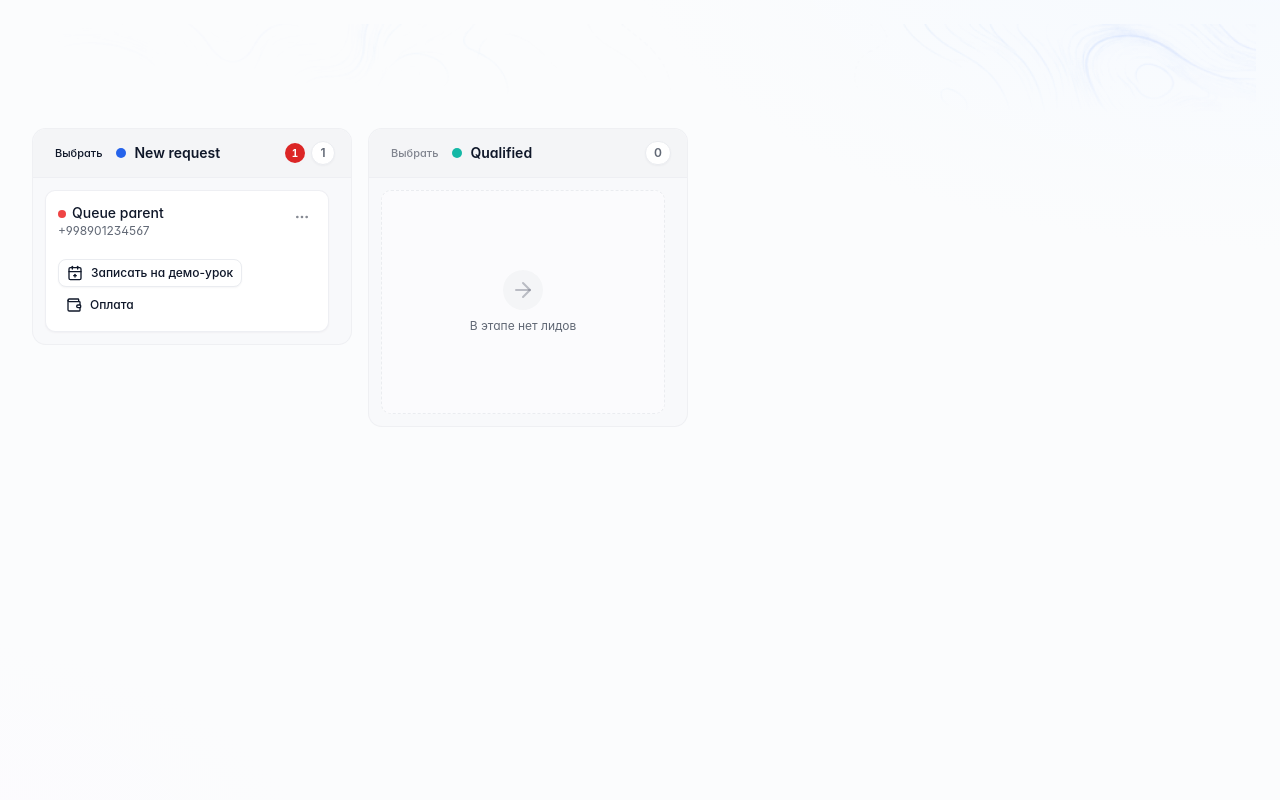
claiming queue leads before pipeline processing › cancels a drop without assignment or a stage change
This screenshot has width=1280, height=800.
Press the mouse on the button "Queue parent +998901234567 Записать на демо-урок Оплата" at (187, 261), box [45,190,329,332]
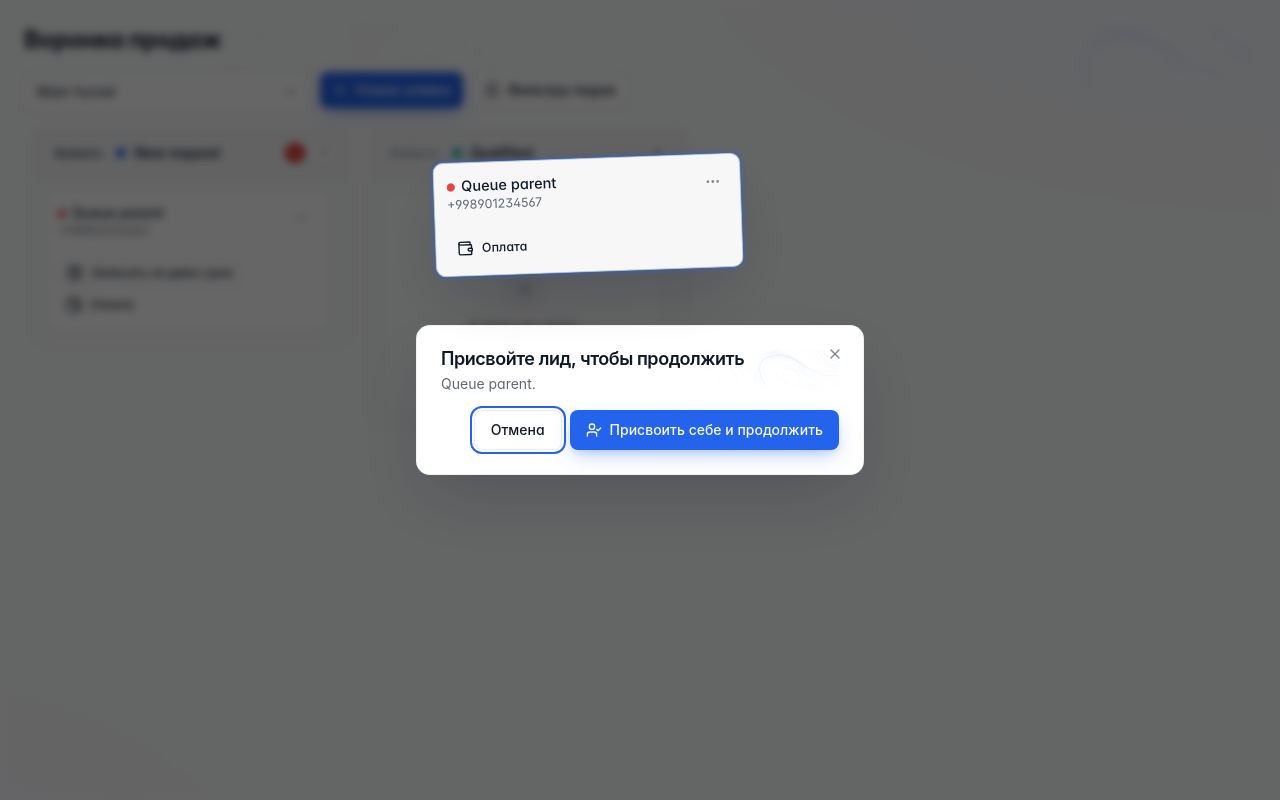
Click the button "Отмена" at (518, 430), box [474,410,562,450]
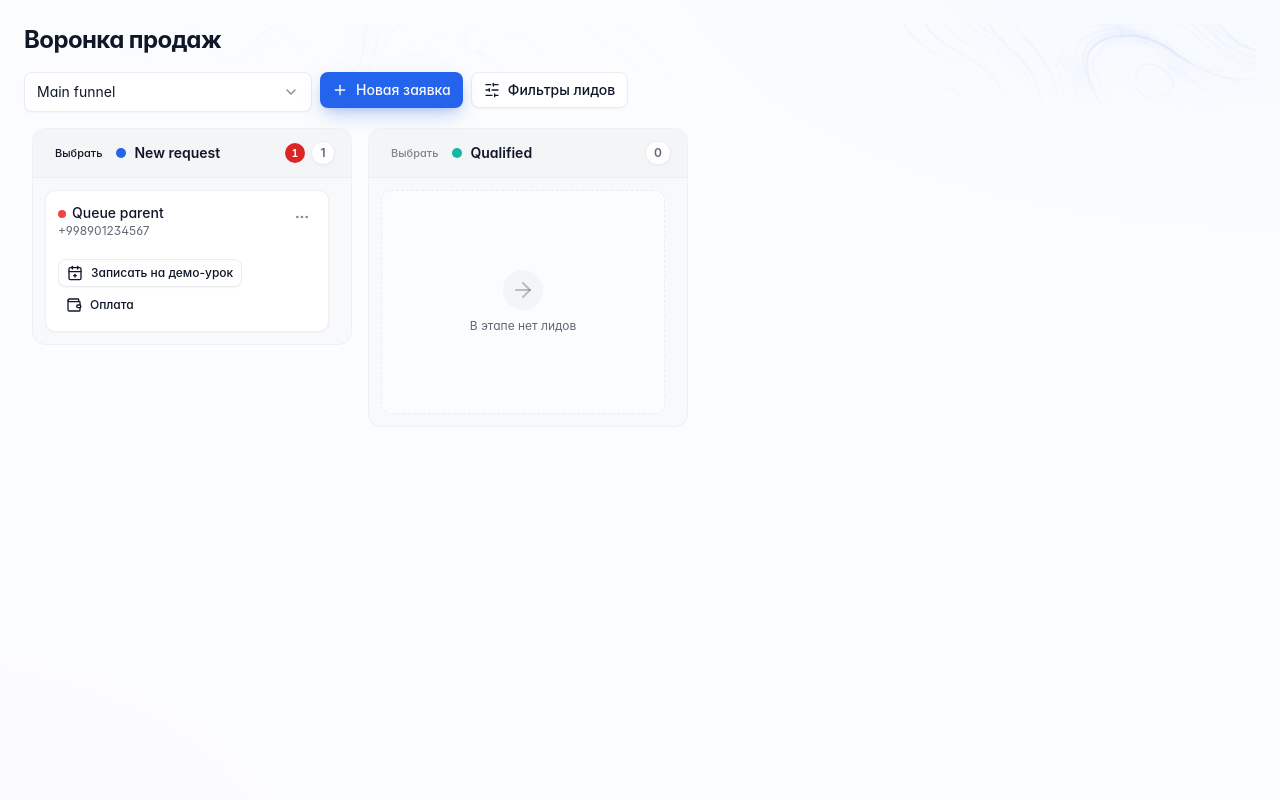
expect the text "Queue parent" is shown: met, box [58,203,164,223]
expect the heading "Присвойте лид, чтобы продолжить" is gone: met
